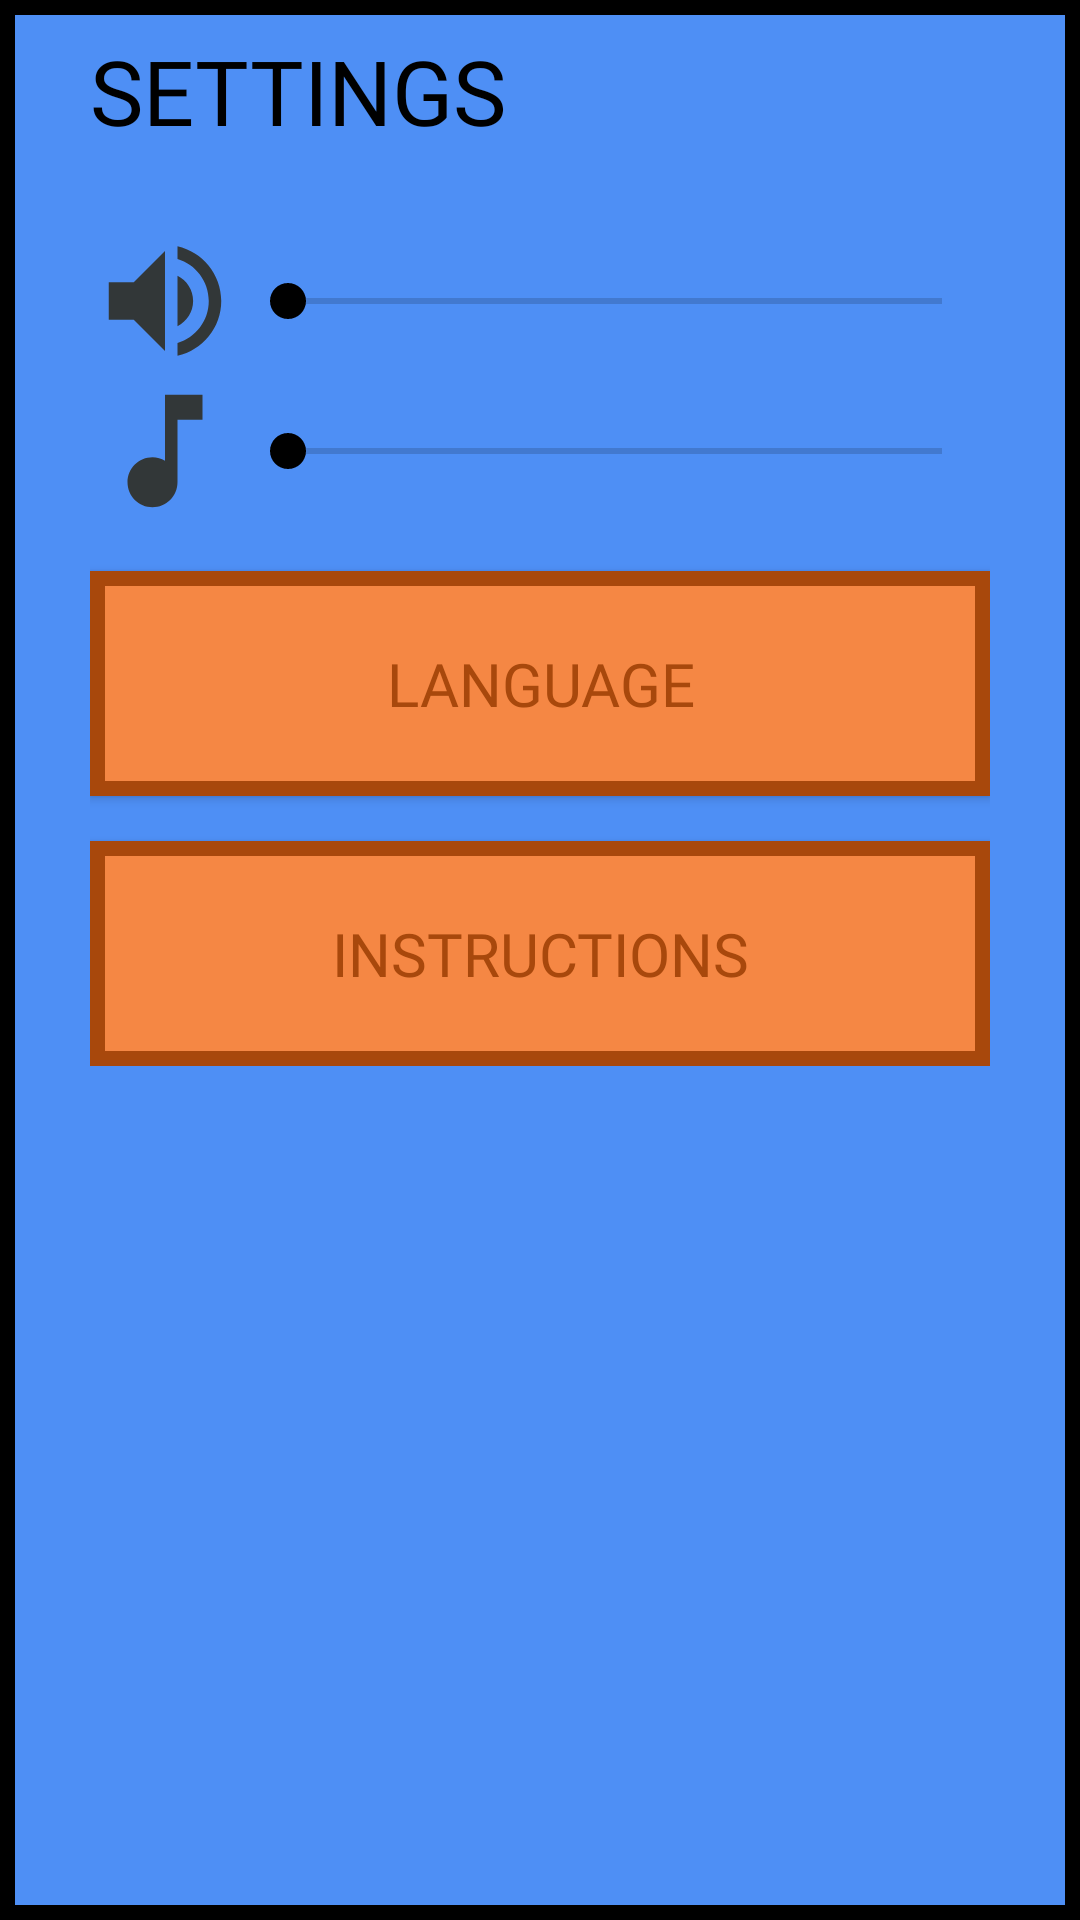

Icon bounding boxes for this 1080*1920 phone screenshot, format box(x1, y1, x2, y2):
audio: box(108, 246, 222, 356)
music: box(127, 394, 203, 508)
